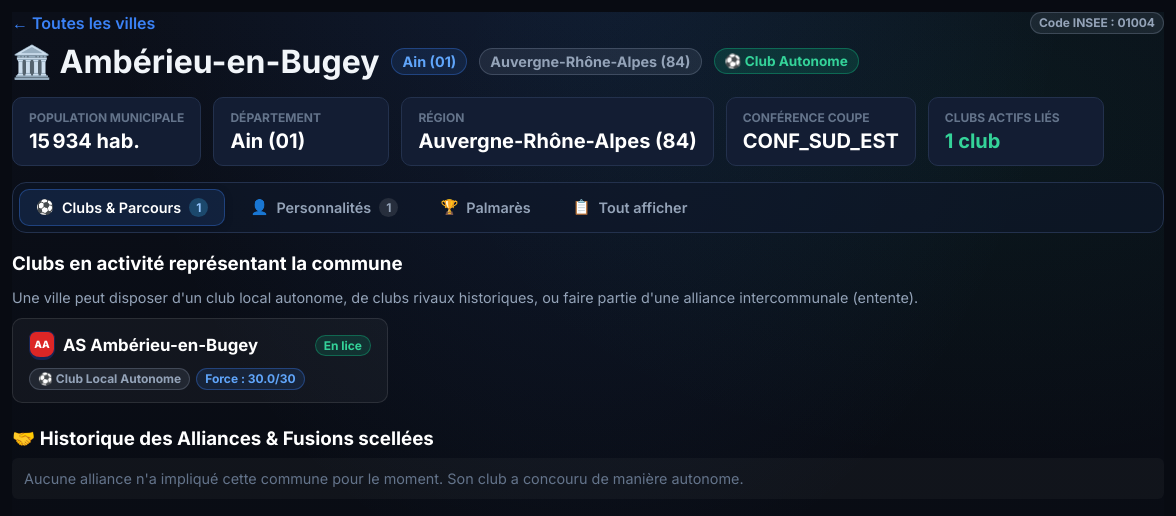
Test: CommunePage - Alliance Naming › allows navigating to Personnalités tab and displays the personalities table
Switch to Personnalités tab
Click the tab "👤 Personnalités 1" at (324, 207), box x1=233 y1=189 x2=415 y2=226
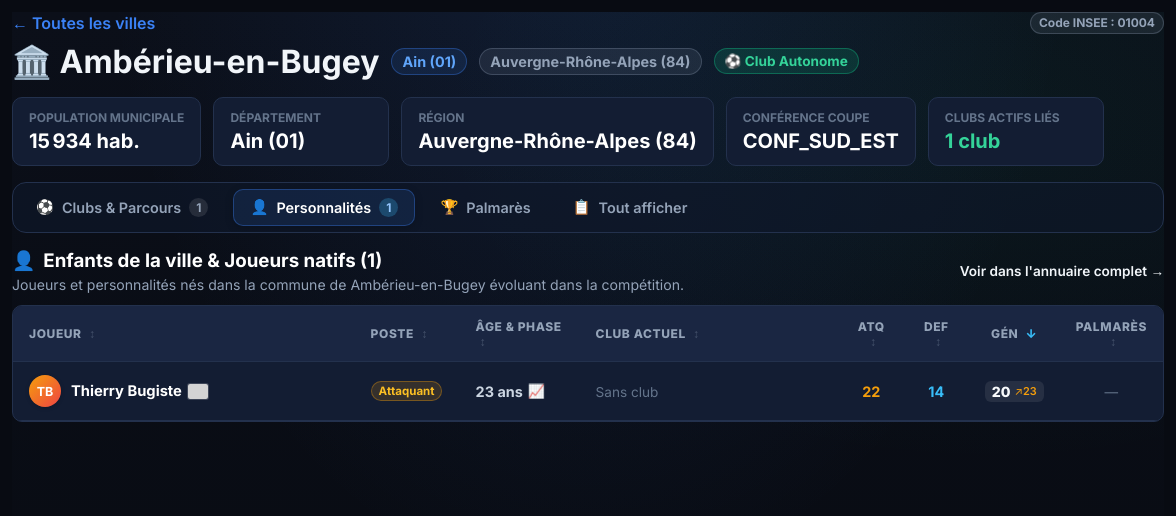
Check: the link "Thierry Bugiste" is shown, box x1=71 y1=382 x2=182 y2=400
Check: the column heading "Joueur ↕" is shown, box x1=13 y1=306 x2=355 y2=362
Check: the column heading "Poste ↕" is shown, box x1=355 y1=306 x2=460 y2=362
